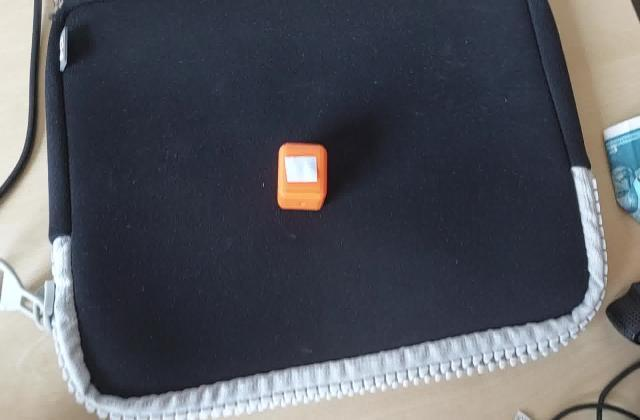sticker: (276, 143, 332, 213)
white: (284, 154, 322, 186)
